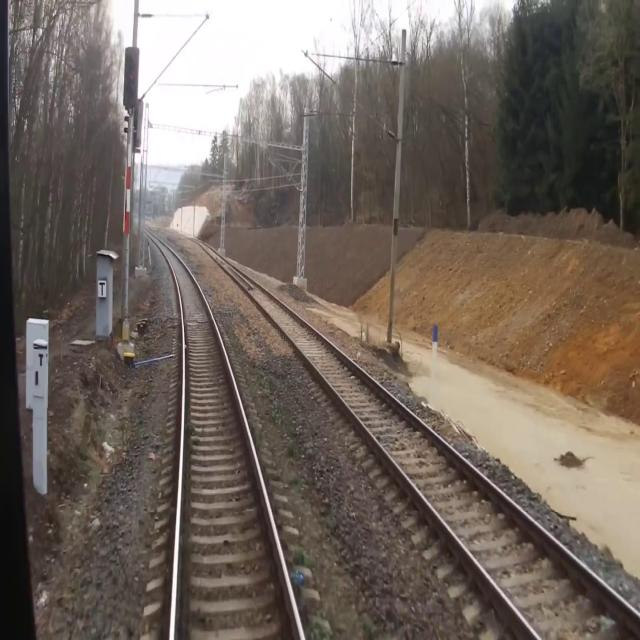rail-track: (194, 239, 640, 639), (143, 228, 300, 639)
